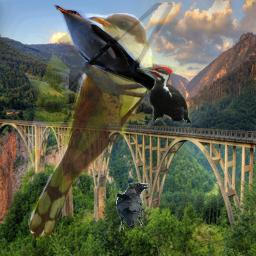Crow: (116, 181, 150, 236)
Cuckoo: (28, 13, 153, 241), (52, 3, 173, 97)
Woodpecker: (137, 62, 192, 128)
